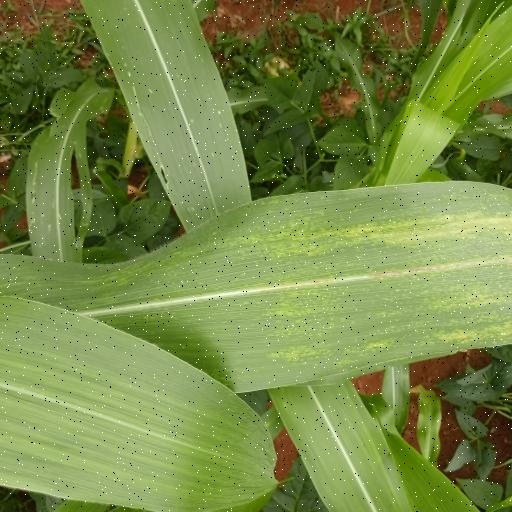Corn_Brown_Spots: (178, 182, 512, 376)
